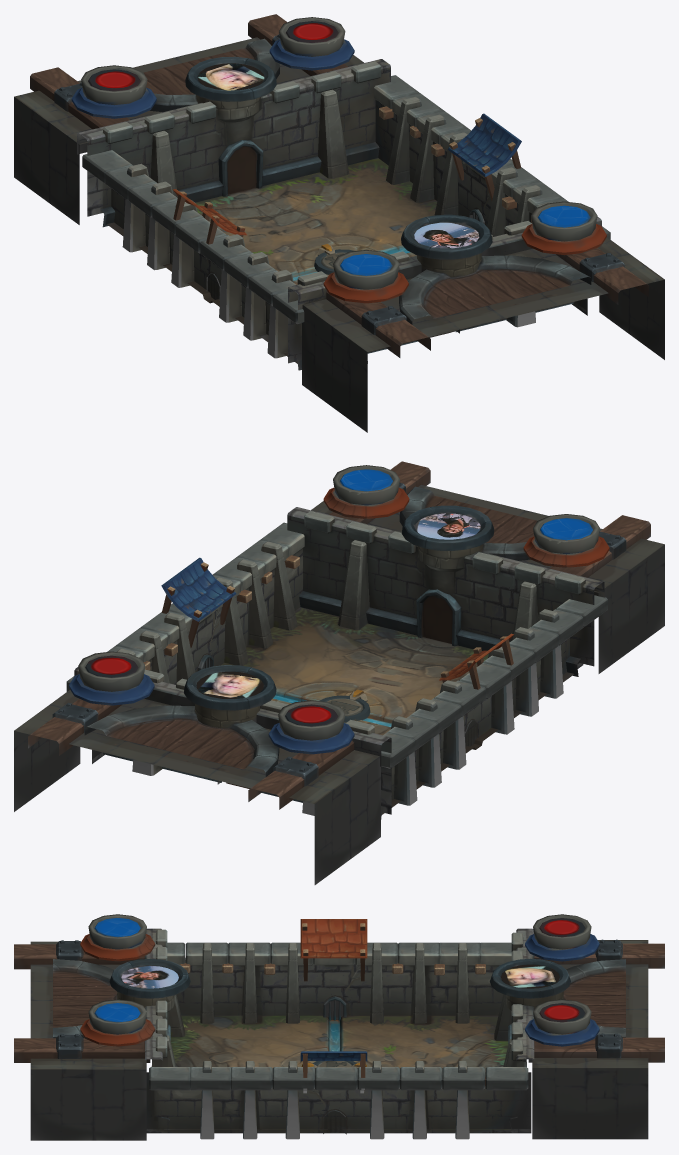
File: battle_screen_01.DAE
The picture shows the model from 3 angles, top to bottom: view 1: azimuth 30°, elevation 25°; view 2: azimuth 150°, elevation 25°; view 3: azimuth 270°, elevation 25°; orthographic projection. The views are drawn at different scales.
Parts seen in each view (by area): view 1: battle_02, Plane002, Box066, Box062, Box094, Cylinder005, Box021, Cylinder014, Box139, Box041, Box072, Box060 (+36 smaller); view 2: battle_02, Plane002, Box094, Box139, Box066, Cylinder014, Box021, Cylinder005, Box062, Box041, Box138, Box146 (+39 smaller); view 3: Plane002, Box021, battle_02, Box066, Box013, Box094, Cylinder005, Cylinder014, Box055, Box070, Box079, Box077 (+46 smaller).
Part boxes in pixels (x1=…): battle_02: x1=81, y1=17, x2=597, y2=370; Plane002: x1=107, y1=158, x2=574, y2=363; Box066: x1=302, y1=237, x2=664, y2=432; Box062: x1=77, y1=59, x2=390, y2=216; Box094: x1=14, y1=37, x2=363, y2=224; Cylinder005: x1=399, y1=255, x2=591, y2=324; Box021: x1=375, y1=99, x2=587, y2=315; Cylinder014: x1=143, y1=38, x2=279, y2=112; Box139: x1=288, y1=216, x2=601, y2=363; Box041: x1=447, y1=113, x2=521, y2=176; Box072: x1=318, y1=89, x2=348, y2=178; Box060: x1=218, y1=140, x2=263, y2=196; battle_02: x1=78, y1=465, x2=599, y2=819; Plane002: x1=221, y1=607, x2=574, y2=814; Box094: x1=14, y1=690, x2=380, y2=884; Box139: x1=287, y1=507, x2=604, y2=666; Box066: x1=311, y1=485, x2=664, y2=673; Cylinder014: x1=84, y1=705, x2=279, y2=776; Box021: x1=92, y1=548, x2=302, y2=763; Cylinder005: x1=399, y1=486, x2=537, y2=560; Box062: x1=74, y1=667, x2=391, y2=814; Box041: x1=161, y1=557, x2=236, y2=621; Box138: x1=338, y1=540, x2=369, y2=629; Box146: x1=416, y1=589, x2=461, y2=646; Plane002: x1=164, y1=1015, x2=512, y2=1132; Box021: x1=146, y1=1072, x2=531, y2=1133; battle_02: x1=88, y1=914, x2=591, y2=1130; Box066: x1=30, y1=941, x2=146, y2=1140; Box013: x1=176, y1=957, x2=503, y2=1015; Box094: x1=532, y1=940, x2=648, y2=1139; Cylinder005: x1=53, y1=959, x2=116, y2=1038; Cylinder014: x1=563, y1=959, x2=625, y2=1037; Box055: x1=300, y1=919, x2=367, y2=958; Box070: x1=14, y1=1038, x2=150, y2=1062; Box079: x1=528, y1=1037, x2=664, y2=1062; Box077: x1=534, y1=943, x2=664, y2=968.
Size of the model in its own units: 634 by 232 by 1266.
